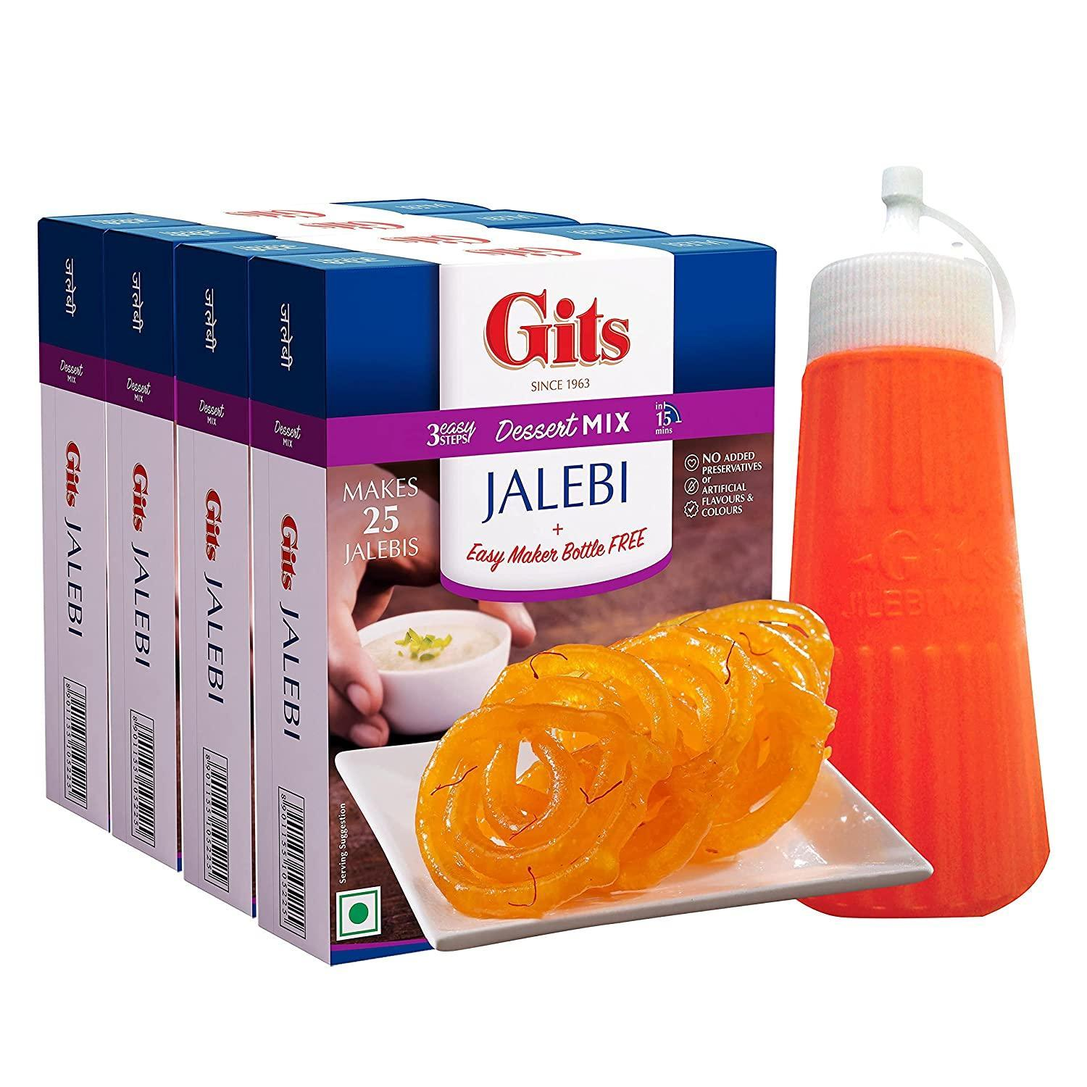jalebi: (460, 585, 815, 898)
